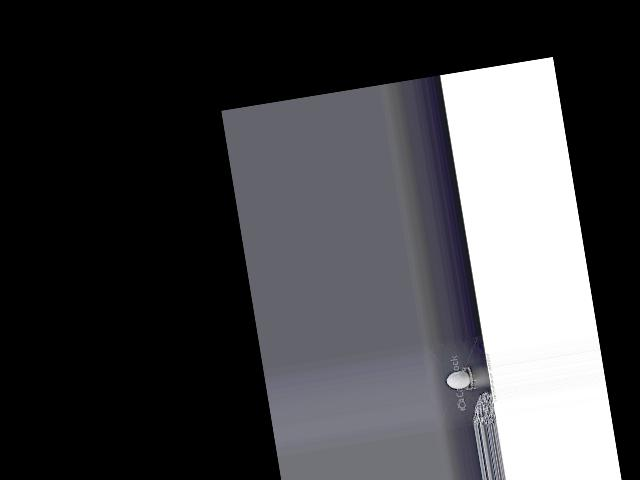egg: (446, 369, 471, 390)
